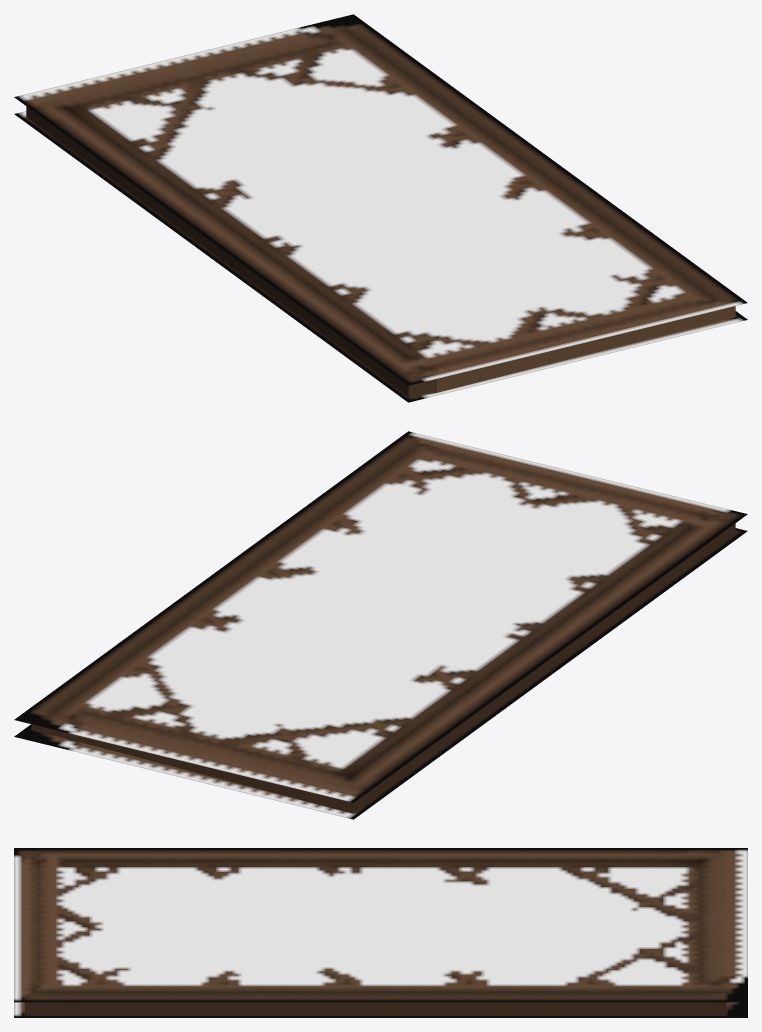
The model's file is pz_native_fixtures_windows_church_109_frame.obj.
3 renders of one model, top to bottom at view 1: azimuth 30°, elevation 25°; view 2: azimuth 150°, elevation 25°; view 3: azimuth 270°, elevation 25°, orthographic. The views are drawn at different scales.
Visible parts, largest first — view 1: pz_native_fixtures_windows_church_109_frame; view 2: pz_native_fixtures_windows_church_109_frame; view 3: pz_native_fixtures_windows_church_109_frame.
Part boxes in pixels (<box>): pz_native_fixtures_windows_church_109_frame: <box>14,14,747,402</box>; pz_native_fixtures_windows_church_109_frame: <box>14,431,747,819</box>; pz_native_fixtures_windows_church_109_frame: <box>14,848,747,1017</box>.
Bounding box in the file's own units: 0.8438 × 0.04 × 1.7.
1 material, 1 textured.
